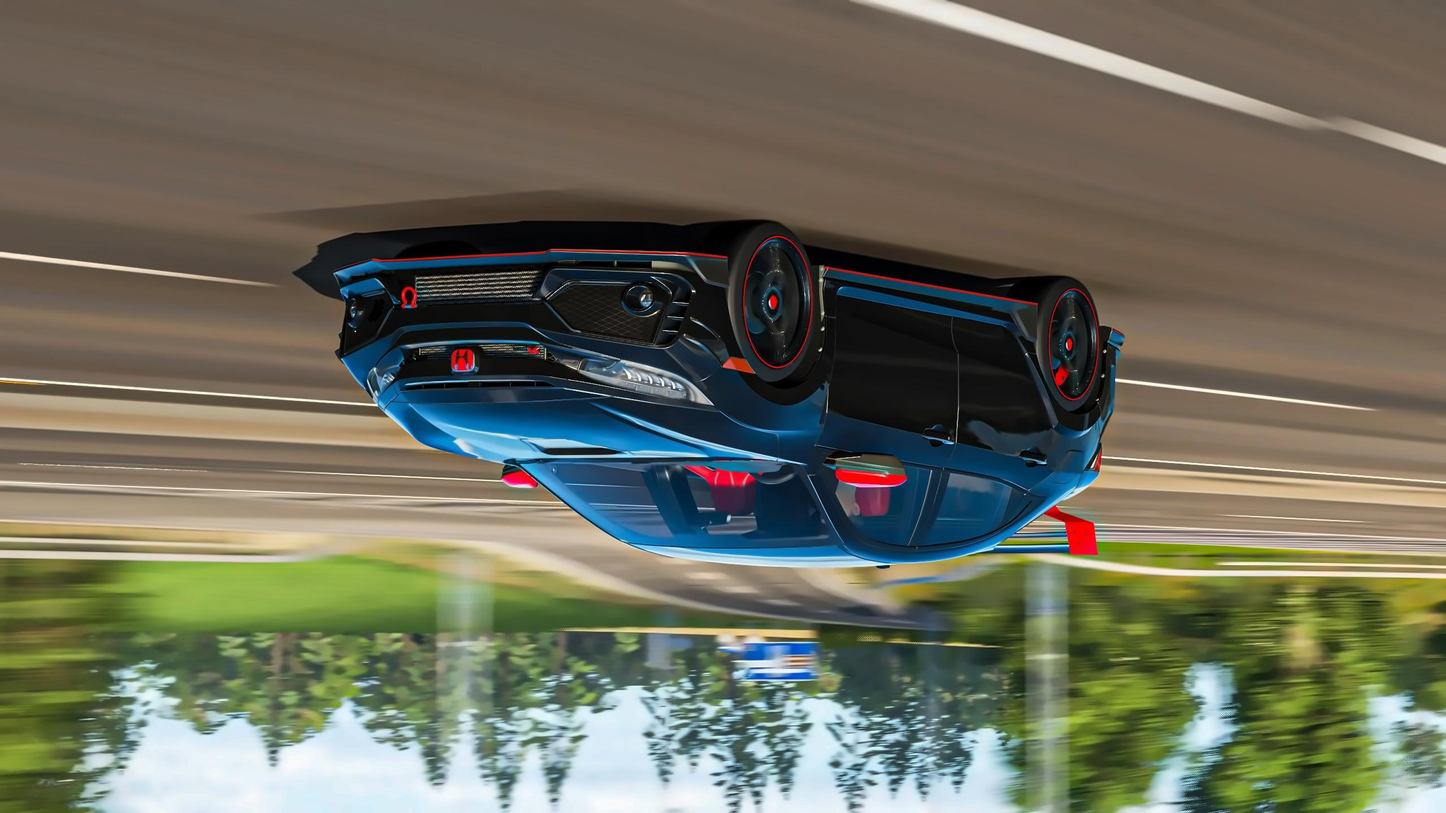Car hood: (375, 386, 782, 463)
Driver-s door - -F-R-: (828, 272, 959, 566)
Fender - -F-R-: (697, 266, 834, 472)
Fender - -R-R-: (1027, 336, 1106, 494)
Front bumper: (325, 243, 744, 370)
Headlight - -L-: (359, 358, 404, 408)
Headlight - -R-: (567, 346, 719, 412)
Passenger-s door - -R-R-: (960, 299, 1061, 560)
Rear bumper: (1088, 320, 1130, 441)
Rear light - -R-: (1080, 439, 1110, 480)
Side bumper - -R-: (813, 258, 1042, 346)
Side mirror - -L-: (489, 452, 545, 497)
Side mirror - -R-: (819, 444, 909, 491)
